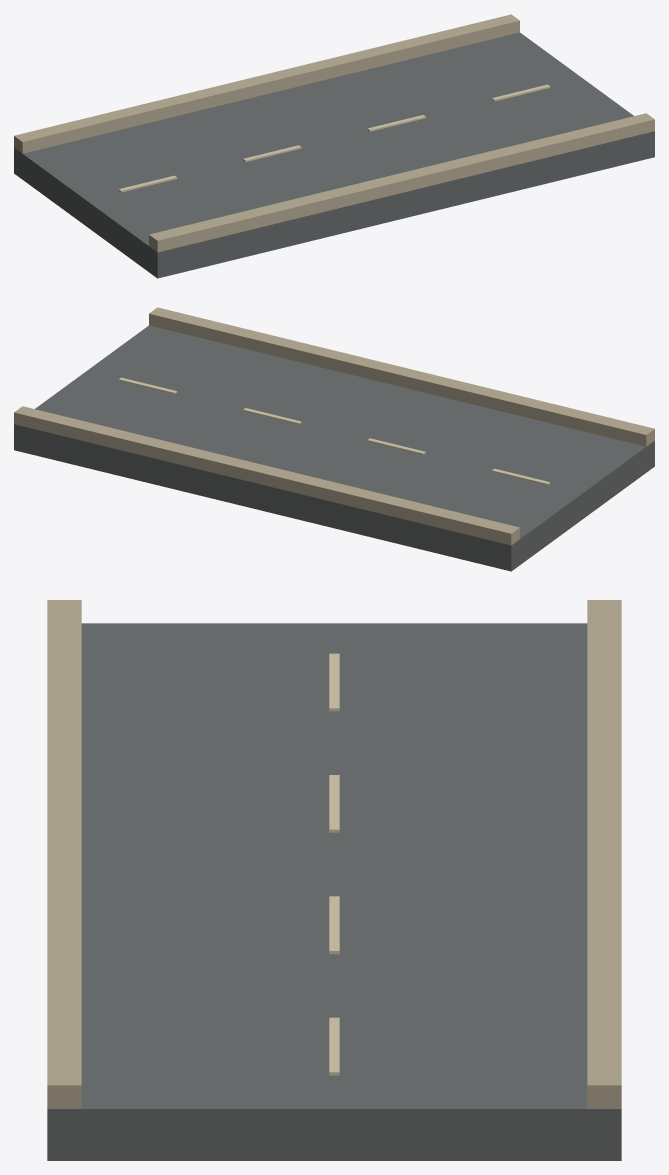
The model's file is coast_straight.glb.
3 views of the same model, one above another, from view 1: azimuth 30°, elevation 25°; view 2: azimuth 150°, elevation 25°; view 3: azimuth 270°, elevation 25° (orthographic). The views are drawn at different scales.
Visible parts, largest first — view 1: coast_straight; view 2: coast_straight; view 3: coast_straight.
Boxes of the visible parts, x1=… form: coast_straight: x1=14, y1=14, x2=654, y2=278; coast_straight: x1=14, y1=307, x2=654, y2=571; coast_straight: x1=47, y1=600, x2=621, y2=1160.
Size of the model in its own units: 4 by 0.29 by 2.
